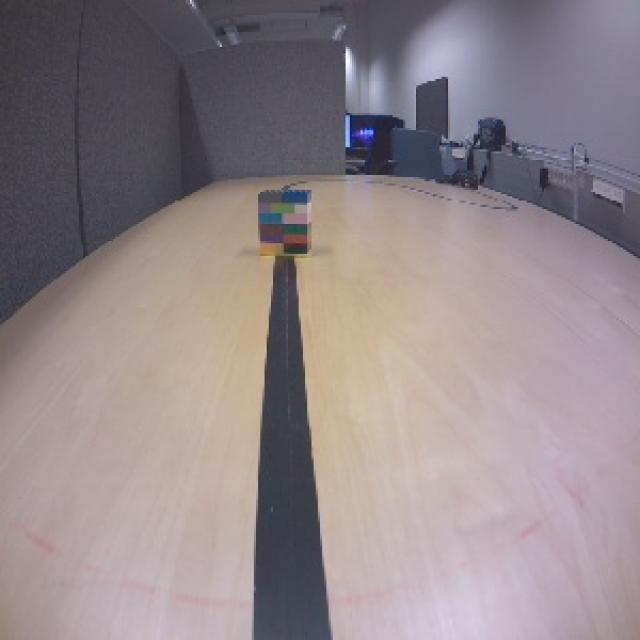obstacle: (256, 186, 314, 258)
